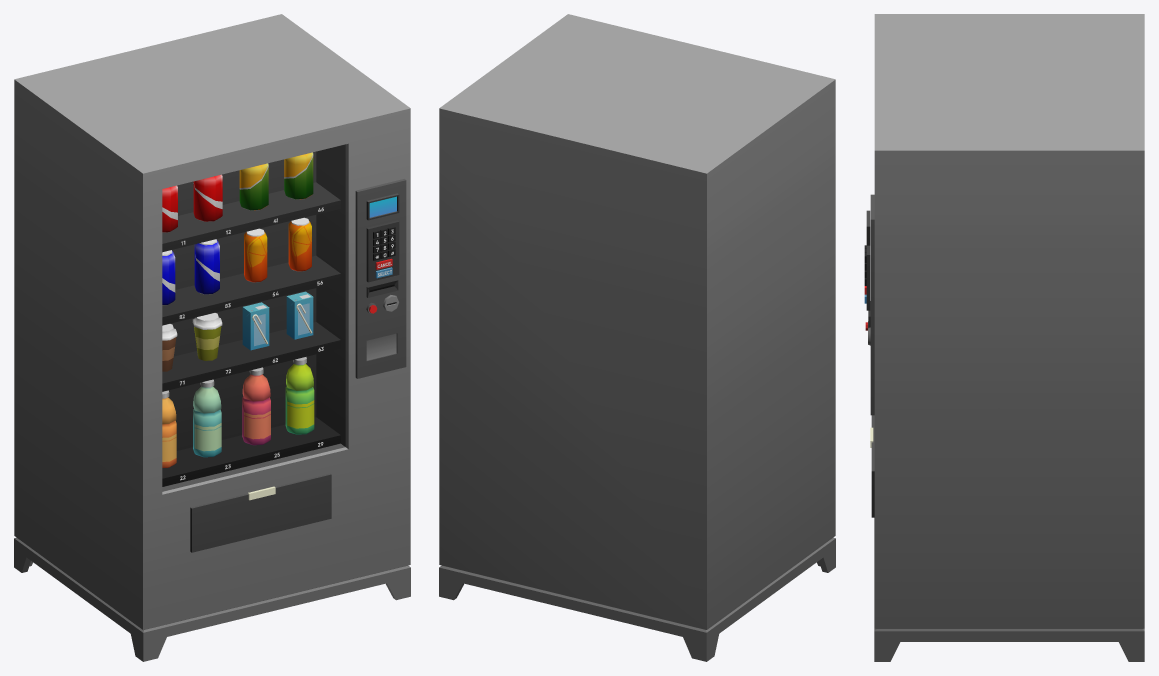
The model's file is CR_Vendingmachine_002.FBX.
3 renders of one model, left to right at view 1: azimuth 30°, elevation 25°; view 2: azimuth 150°, elevation 25°; view 3: azimuth 270°, elevation 25°, orthographic. The views are drawn at different scales.
Visible parts, largest first — view 1: CR_Vendingmachine_001; view 2: CR_Vendingmachine_001; view 3: CR_Vendingmachine_001.
Boxes of the visible parts, <box> form: CR_Vendingmachine_001: <box>14,14,410,661</box>; CR_Vendingmachine_001: <box>439,14,835,661</box>; CR_Vendingmachine_001: <box>864,14,1144,661</box>.
Size of the model in its own units: 92.17 by 161 by 79.9.
